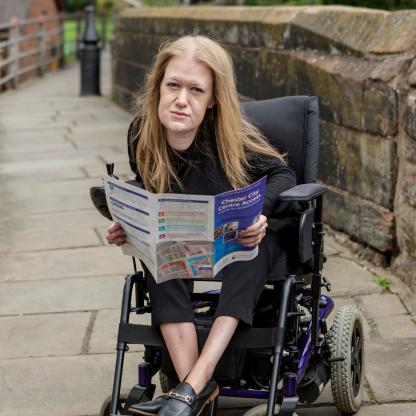wheelchair: (85, 28, 368, 416)
